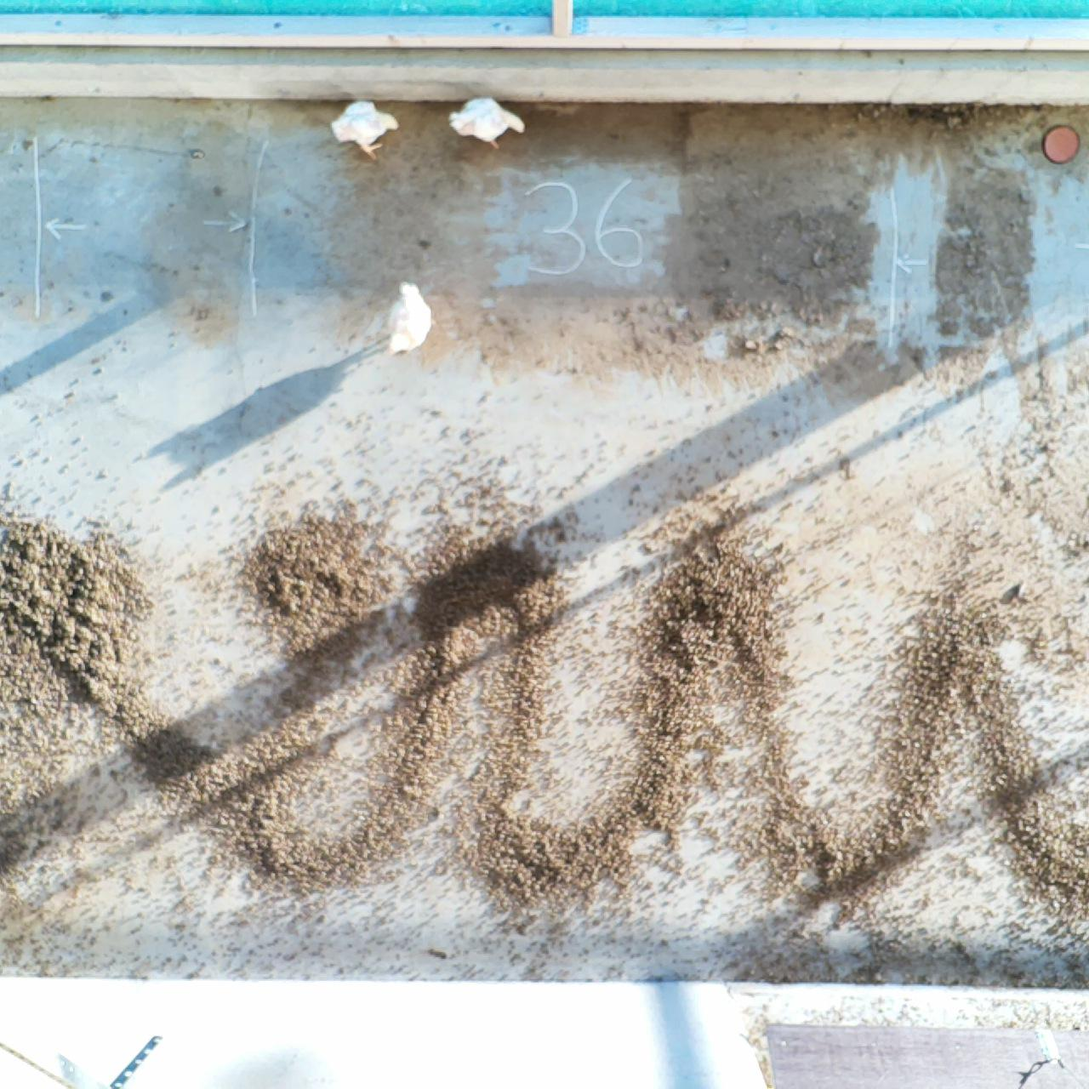chicken: (447, 94, 528, 153), (330, 98, 403, 162), (382, 278, 437, 360)
